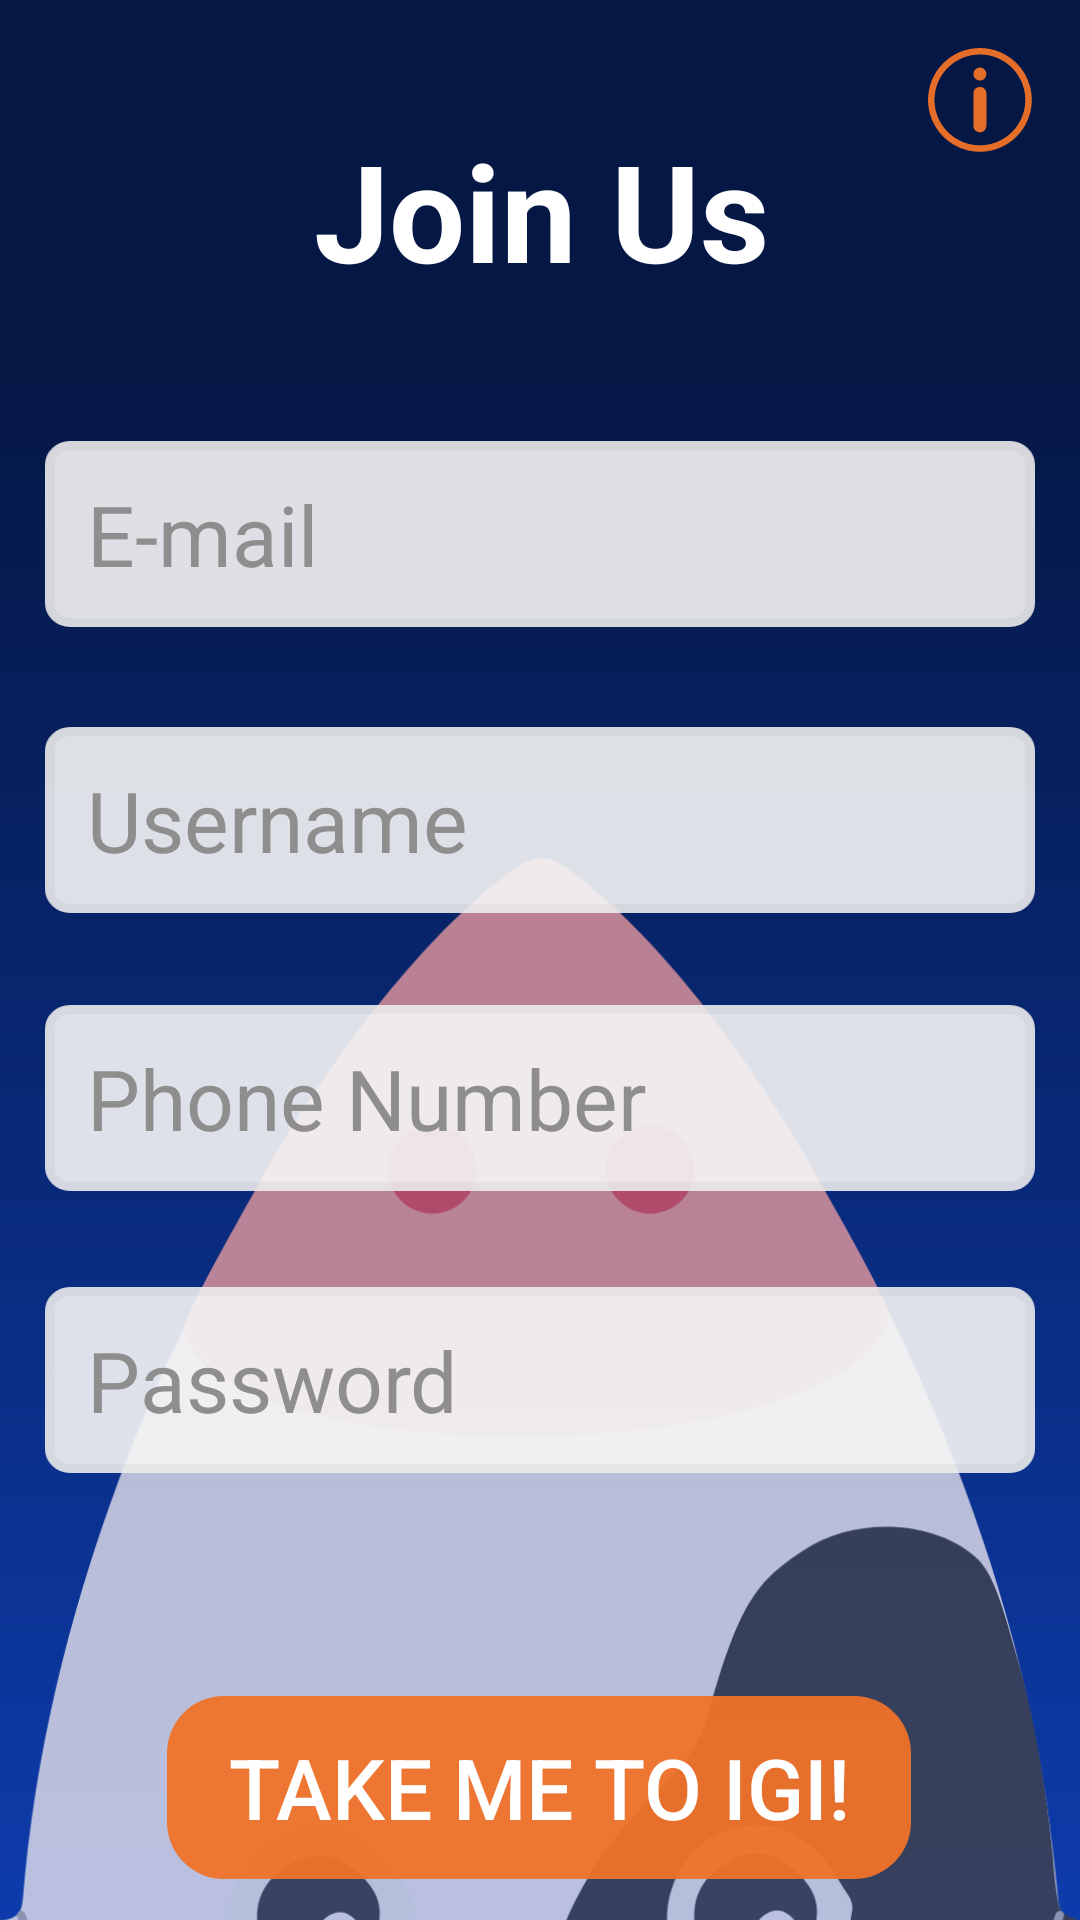

Icons on this 1080px x 1920px Android screen, each with its box as [x1,y1,x2,y2]:
info but: [928,48,1032,152]
